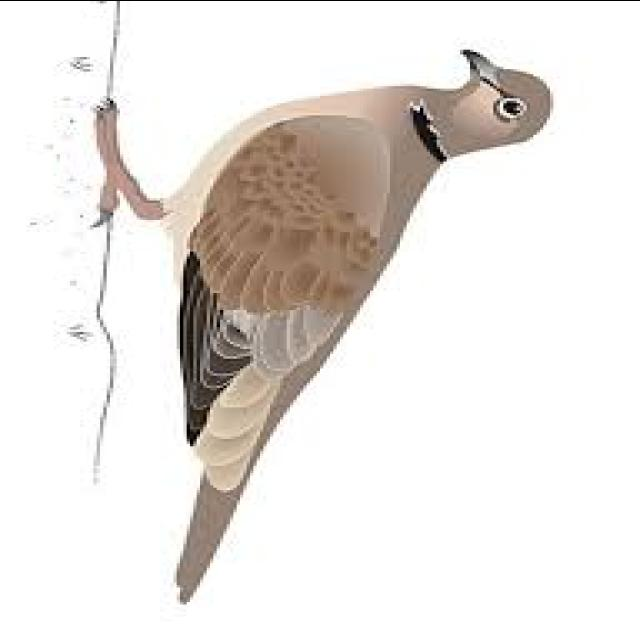pigeon: (103, 20, 571, 604)
